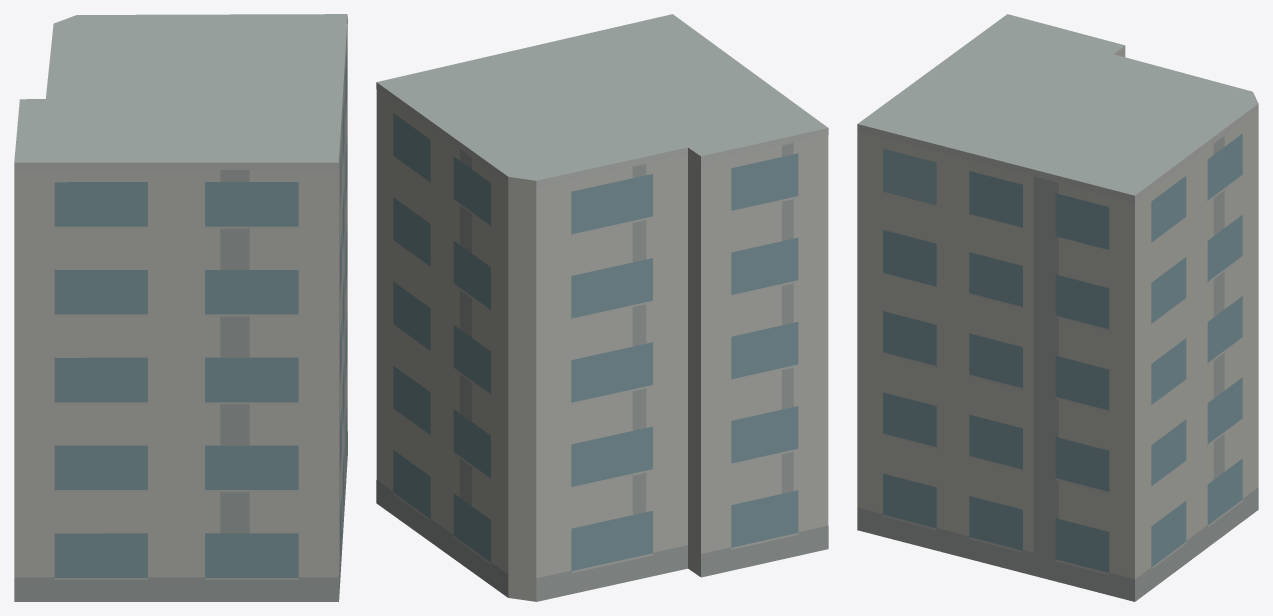
Rendered from survey-upis-32851945.glb.
The picture shows the model from 3 angles, left to right: view 1: azimuth 30°, elevation 25°; view 2: azimuth 150°, elevation 25°; view 3: azimuth 270°, elevation 25°; orthographic projection. The views are drawn at different scales.
Visible parts, largest first — view 1: survey-upis-32851945.tmp; view 2: survey-upis-32851945.tmp; view 3: survey-upis-32851945.tmp.
Boxes of the visible parts, bbox=[...] form: survey-upis-32851945.tmp: bbox=[14, 14, 347, 601]; survey-upis-32851945.tmp: bbox=[376, 14, 828, 601]; survey-upis-32851945.tmp: bbox=[857, 14, 1258, 601].
Bounding box in the file's own units: 13.88 × 14.46 × 12.95.
